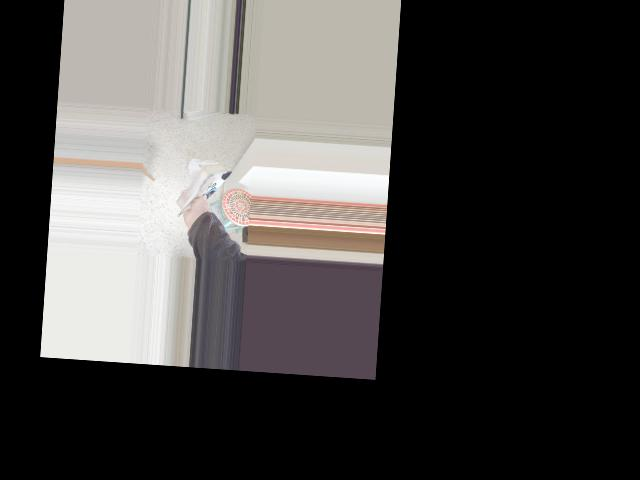cheese: (168, 152, 241, 230)
